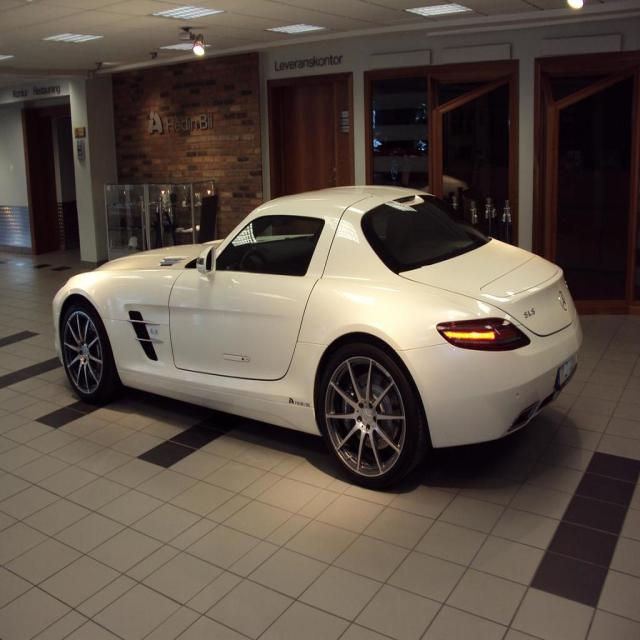car: (54, 186, 582, 487)
